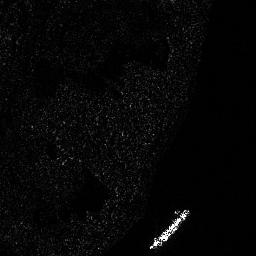ship: (150, 208, 191, 248)
